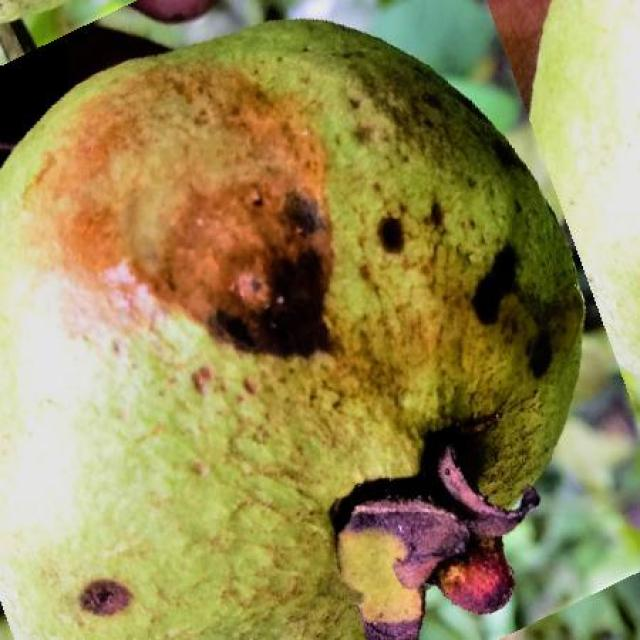Styler and Root: (0, 21, 582, 639)
